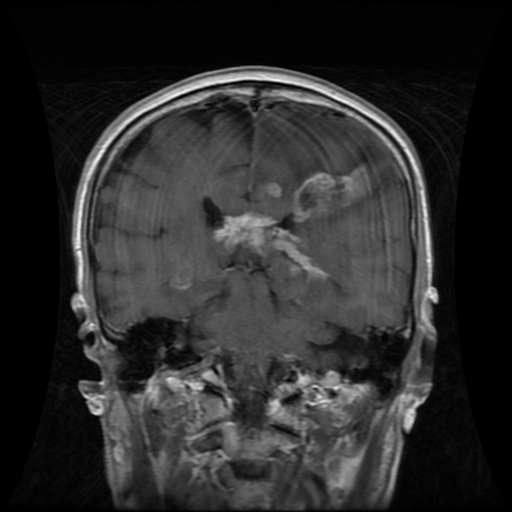glioma: (213, 163, 373, 282)
